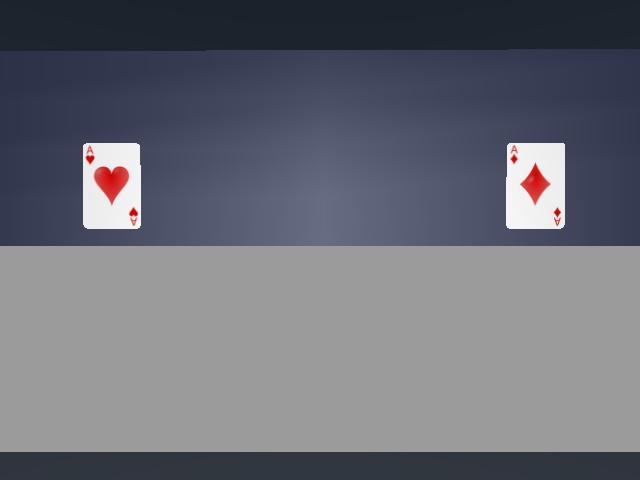diamond: (506, 143, 564, 228)
heart: (83, 143, 140, 228)
